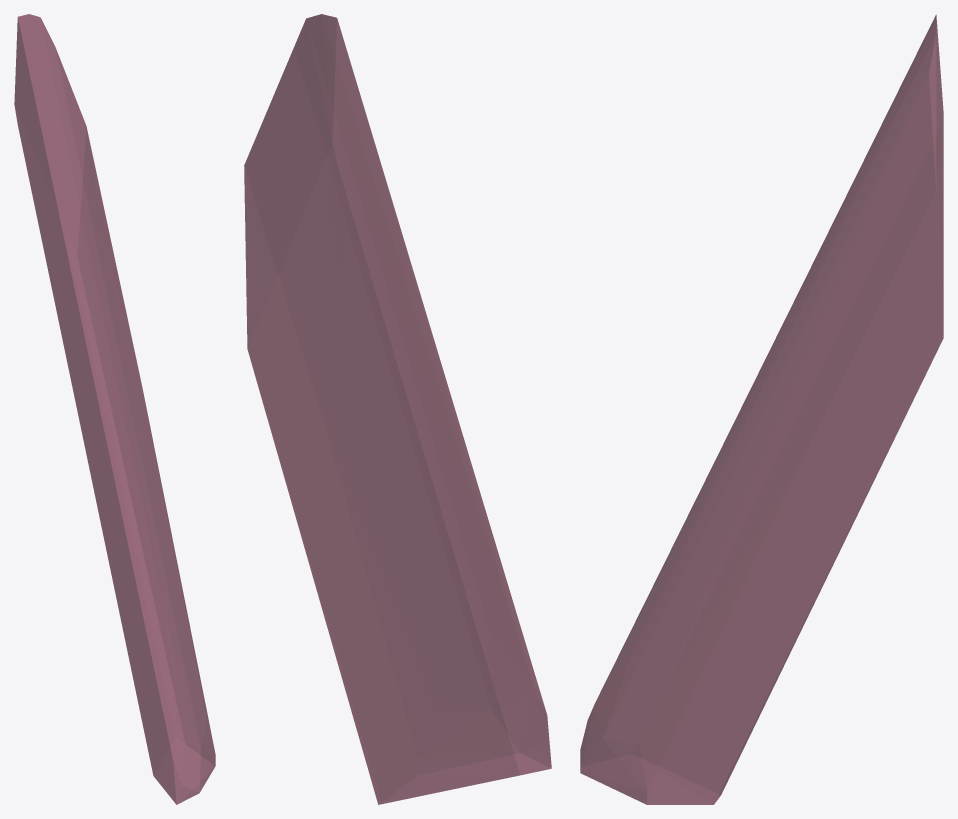
3 renders of one model, left to right at view 1: azimuth 30°, elevation 25°; view 2: azimuth 150°, elevation 25°; view 3: azimuth 270°, elevation 25°, orthographic. The views are drawn at different scales.
Parts seen in each view (by area): view 1: Shape_IndexedFaceSet.053_Shape_IndexedFaceSet.7804; view 2: Shape_IndexedFaceSet.053_Shape_IndexedFaceSet.7804; view 3: Shape_IndexedFaceSet.053_Shape_IndexedFaceSet.7804.
Part boxes in pixels (<box>): Shape_IndexedFaceSet.053_Shape_IndexedFaceSet.7804: <box>14,14,215,804</box>; Shape_IndexedFaceSet.053_Shape_IndexedFaceSet.7804: <box>244,14,551,804</box>; Shape_IndexedFaceSet.053_Shape_IndexedFaceSet.7804: <box>580,14,943,804</box>.
Bounding box in the file's own units: 0.0164 × 0.1529 × 0.0669.
